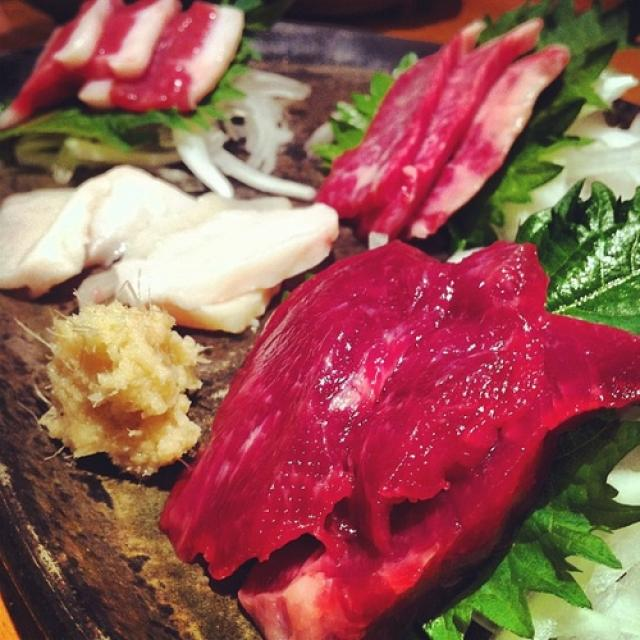刺身生食: (7, 5, 634, 626)
